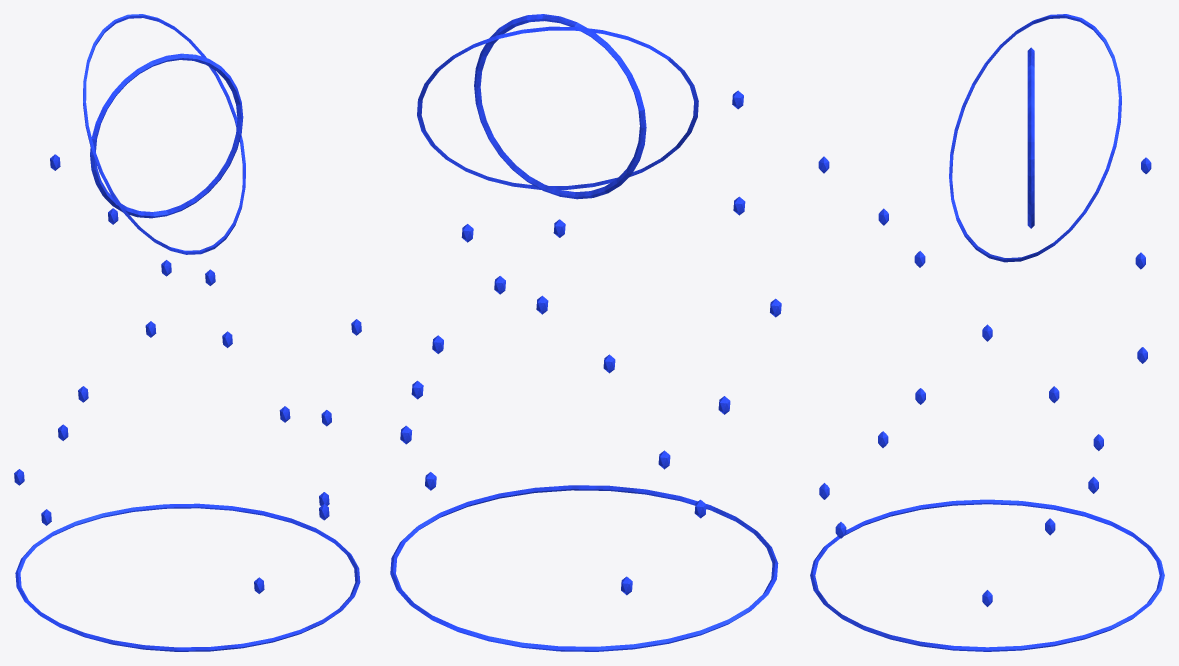
Rendered from aura-galaxy.glb.
3 views of the same model, side by side, from view 1: azimuth 30°, elevation 25°; view 2: azimuth 150°, elevation 25°; view 3: azimuth 270°, elevation 25° (orthographic). The views are drawn at different scales.
Visible parts, largest first — view 1: GroundRing, BackHalo, StellarOrbit; view 2: GroundRing, BackHalo, StellarOrbit; view 3: GroundRing, StellarOrbit, BackHalo.
Part boxes in pixels (left/top/right/bottom): GroundRing: left=15, top=503, right=360, bottom=651; BackHalo: left=90, top=53, right=243, bottom=218; StellarOrbit: left=83, top=14, right=245, bottom=254; GroundRing: left=390, top=485, right=778, bottom=651; BackHalo: left=474, top=14, right=646, bottom=199; StellarOrbit: left=417, top=26, right=698, bottom=189; GroundRing: left=810, top=499, right=1164, bottom=651; StellarOrbit: left=949, top=14, right=1121, bottom=262; BackHalo: left=1027, top=47, right=1034, bottom=228.
Size of the model in its own units: 0.812 by 1.37 by 0.812.
1 material, 1 textured.
